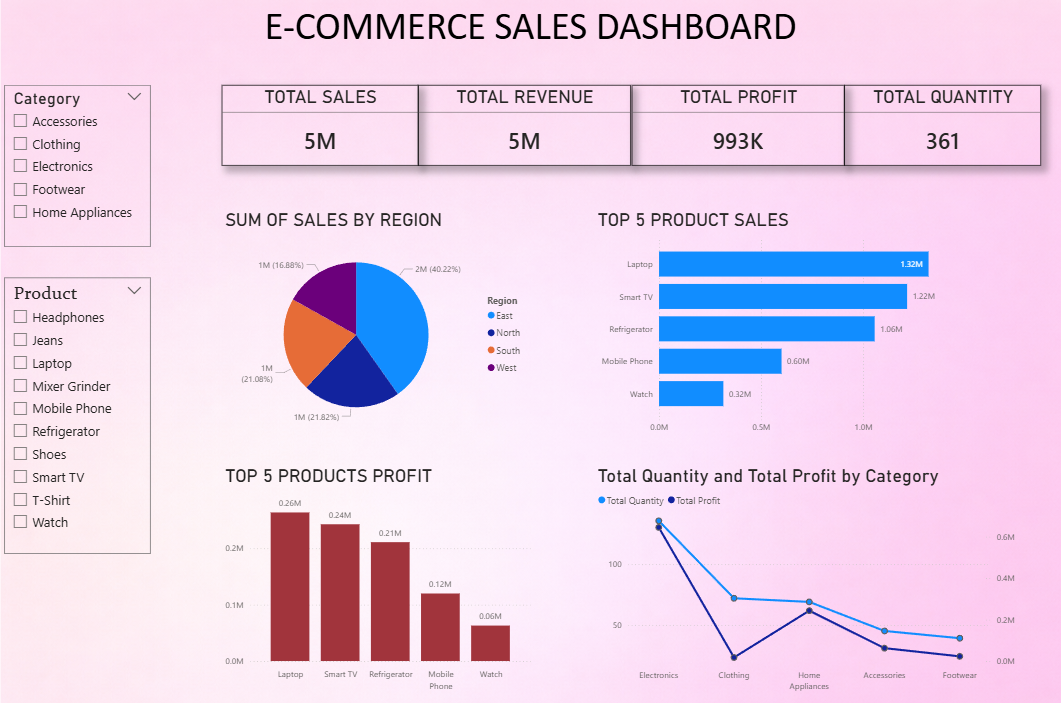

The dashboard page shown, as its layout file describes it:
{"tool":"powerbi","page":{"name":"Page 1","canvas":[1920,1080],"ordinal":0},"visuals":[{"type":"textbox","box":[198,28,1524,84],"z":0},{"type":"slicer","fields":{"Values":["Sheet1.Category"]},"box":[198,152,212,234],"z":1},{"type":"slicer","fields":{"Values":["Sheet1.Product"]},"box":[198,430,212,400],"z":2},{"type":"pieChart","title":"SUM OF SALES BY REGION","fields":{"Category":["Sheet1.Region"],"Y":["Sum(Sheet1.Sales)"]},"box":[511.7,331.7,453.3,335],"z":3},{"type":"cardVisual","title":"TOTAL SALES","fields":{"Data":["Sheet1.Total Sales"]},"box":[511.7,151.7,285,116.7],"z":4},{"type":"cardVisual","title":"TOTAL REVENUE","fields":{"Data":["Sheet1.Total Revenue"]},"box":[796.7,151.7,308.3,116.7],"z":5},{"type":"cardVisual","title":"TOTAL QUANTITY","fields":{"Data":["Sheet1.Total Quantity"]},"box":[1413.3,151.7,285,116.7],"z":6},{"type":"cardVisual","title":"TOTAL PROFIT","fields":{"Data":["Sheet1.Total Profit"]},"box":[1105,151.7,308.3,116.7],"z":7},{"type":"clusteredBarChart","title":"TOP 5 PRODUCT SALES","fields":{"Category":["Sheet1.Product"],"Y":["Sheet1.Total Sales"]},"box":[1051.7,331.7,528.3,335],"z":8},{"type":"clusteredColumnChart","title":"TOP 5 PRODUCTS PROFIT","fields":{"Category":["Sheet1.Product"],"Y":["Sheet1.Total Profit"]},"box":[511.7,701.7,453.3,335],"z":9},{"type":"lineChart","fields":{"Category":["Sheet1.Category"],"Y2":["Sheet1.Total Profit"],"Y":["Sheet1.Total Quantity"]},"box":[1051.7,701.7,615,335],"z":10}]}

Visuals, with their boxes on the page's 1920x1080 design canvas (x1, y1, x2, y2). These are canvas units, not pixel positions in the 1061x703 screenshot, which may show the page scaled, cropped or inside an application window:
textbox: (198,28,1722,112)
slicer - Sheet1.Category: (198,152,410,386)
slicer - Sheet1.Product: (198,430,410,830)
"SUM OF SALES BY REGION" pieChart: (512,332,965,667)
"TOTAL SALES" cardVisual: (512,152,797,268)
"TOTAL REVENUE" cardVisual: (797,152,1105,268)
"TOTAL QUANTITY" cardVisual: (1413,152,1698,268)
"TOTAL PROFIT" cardVisual: (1105,152,1413,268)
"TOP 5 PRODUCT SALES" clusteredBarChart: (1052,332,1580,667)
"TOP 5 PRODUCTS PROFIT" clusteredColumnChart: (512,702,965,1037)
lineChart - Sheet1.Category x Sheet1.Total Profit: (1052,702,1667,1037)
